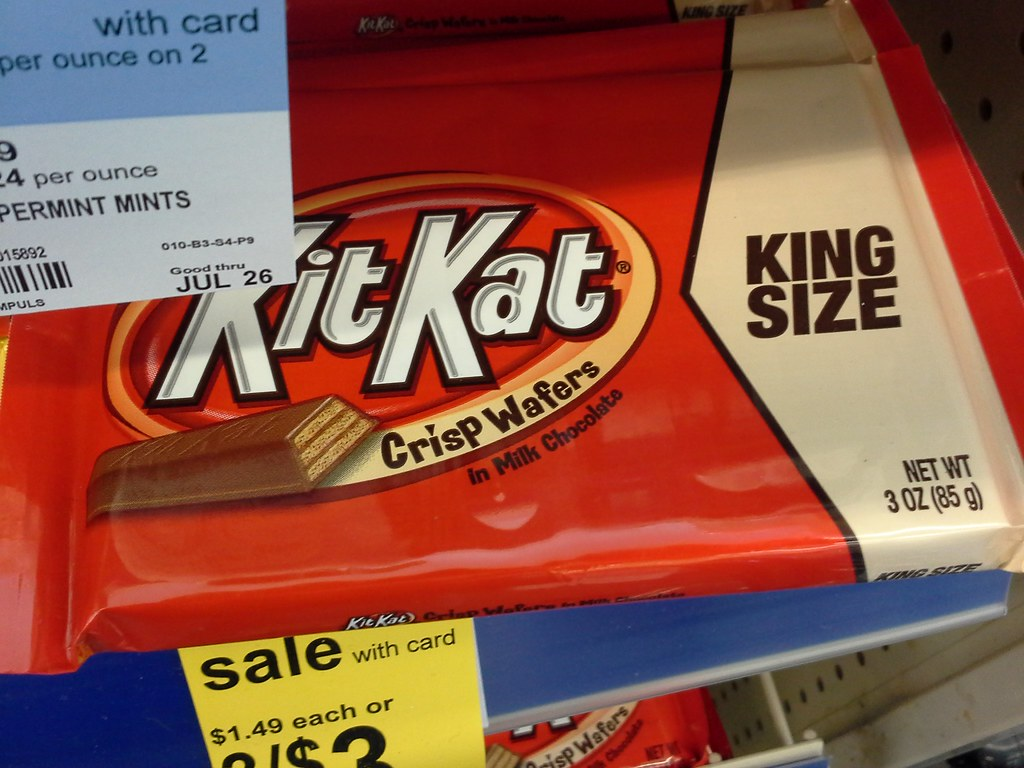kitkat: (11, 45, 1020, 616)
